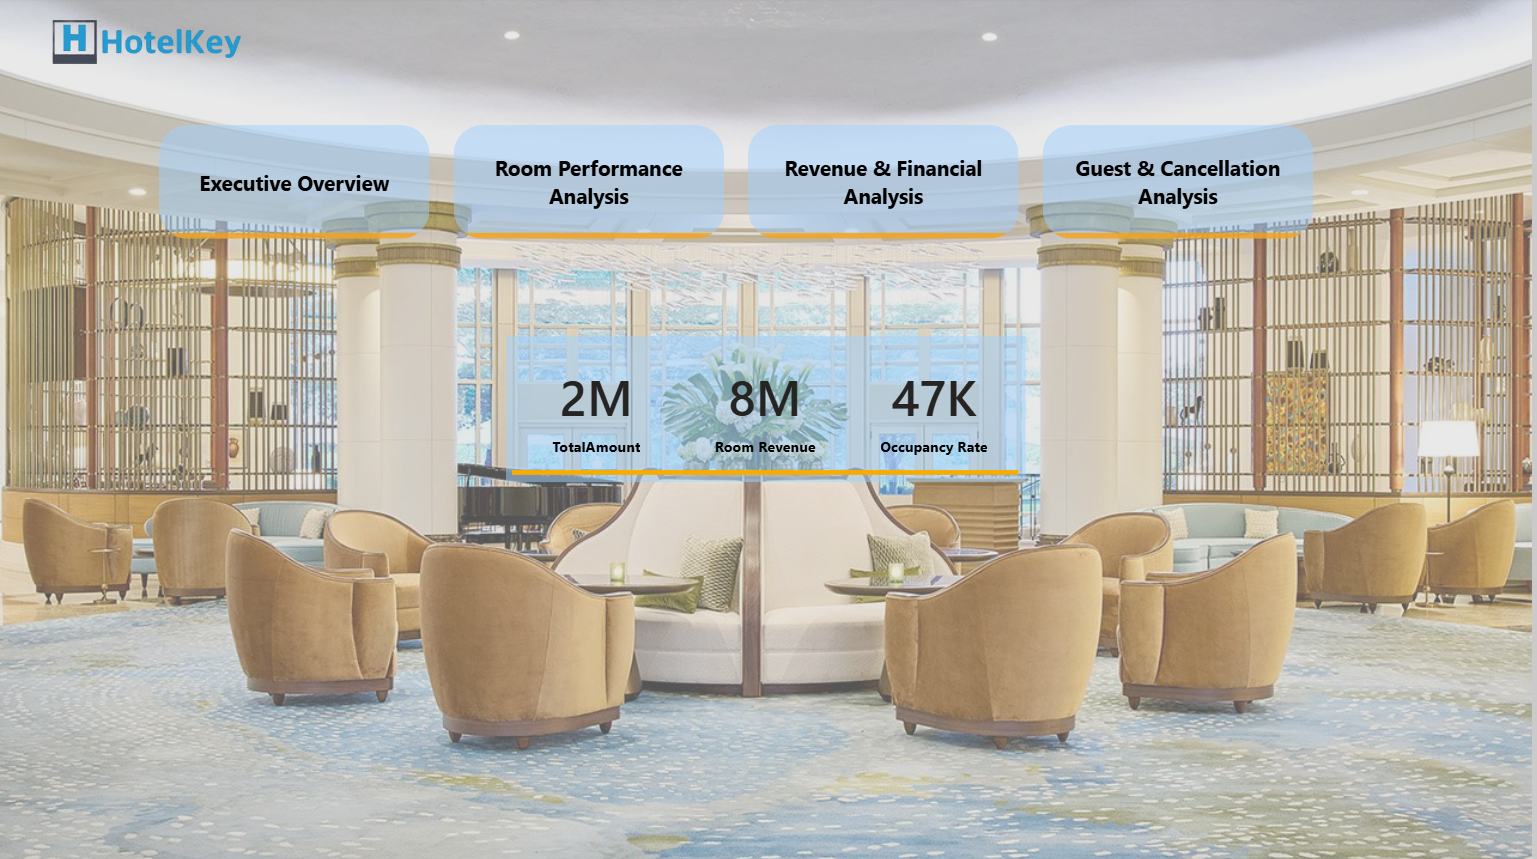

Layout of this report page (visuals, bound fields, positions):
{"tool":"powerbi","page":{"name":"Page 1","canvas":[1280,720],"ordinal":0},"visuals":[{"type":"pageNavigator","box":[133.4,106.6,964.5,95.8],"z":2000},{"type":"group","id":"g1","title":"Group 1","box":[423.2,282.8,434.3,121.8],"z":3000},{"type":"image","box":[0,8,246.5,56.7],"z":4003},{"type":"cardVisual","fields":{"Data":["Sum(Bookings.TotalAmount)","Sum(Revenue.RoomRevenue)","Sum(Revenue.OccupancyRate)"]},"box":[423.2,282.8,434.3,121.8],"z":5000,"group":"g1"}]}

Visuals, with their boxes in screenshot pixels (x1, y1, x2, y2), scaled from the page's 1280x720 canvas onto the 1537x859 screenshot:
pageNavigator: 160/127/1318/241
"Group 1" group: 508/337/1030/483
image: 0/10/296/77
cardVisual - Sum(Bookings.TotalAmount) x Sum(Revenue.RoomRevenue): 508/337/1030/483
